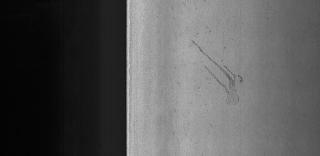water spot: (189, 39, 253, 109)
